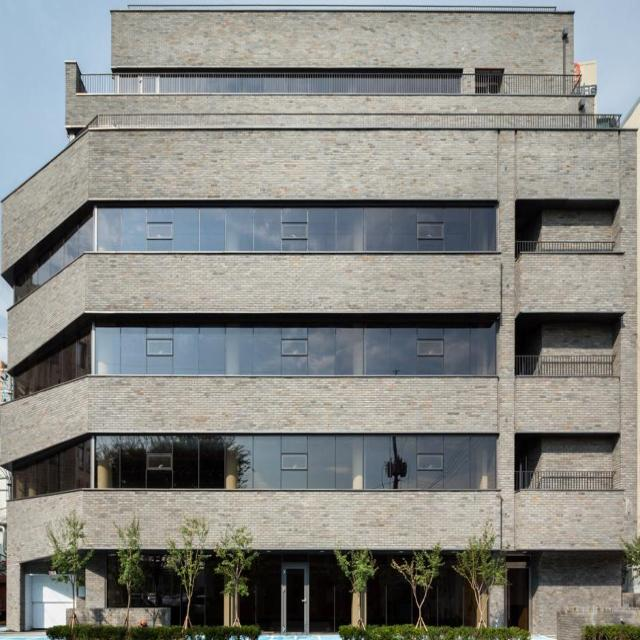Railing: (80, 73, 581, 96), (515, 355, 615, 377), (516, 471, 616, 490), (518, 242, 614, 251)
door: (282, 561, 310, 639)
plant: (455, 526, 508, 591), (161, 522, 209, 591), (215, 528, 260, 597), (50, 517, 92, 589), (390, 539, 445, 588), (112, 518, 143, 591), (334, 544, 374, 595)
wall: (0, 6, 639, 636)
windows: (14, 203, 498, 305), (14, 327, 495, 398), (11, 432, 498, 500)
